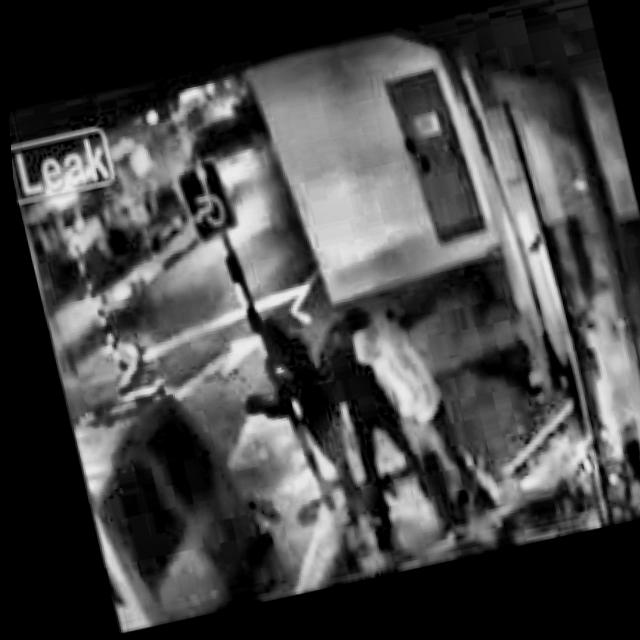burglary: (49, 235, 640, 635)
